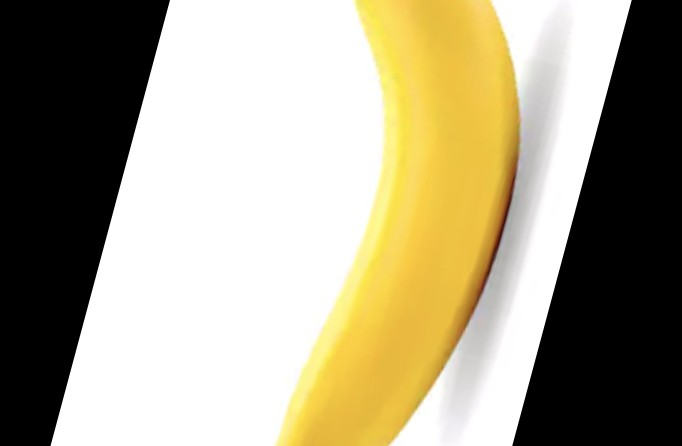fresh_banana: (274, 2, 520, 446)
